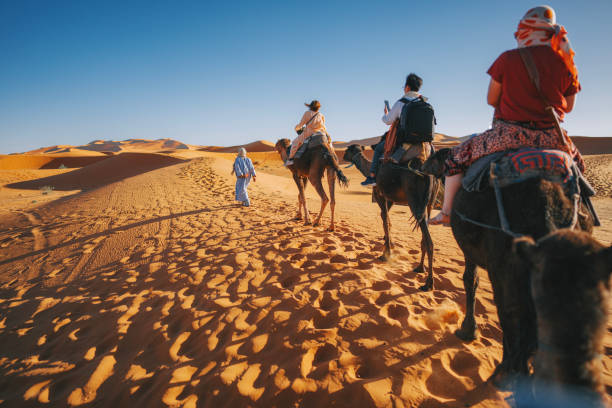animal_foot_print: (0, 157, 500, 405)
